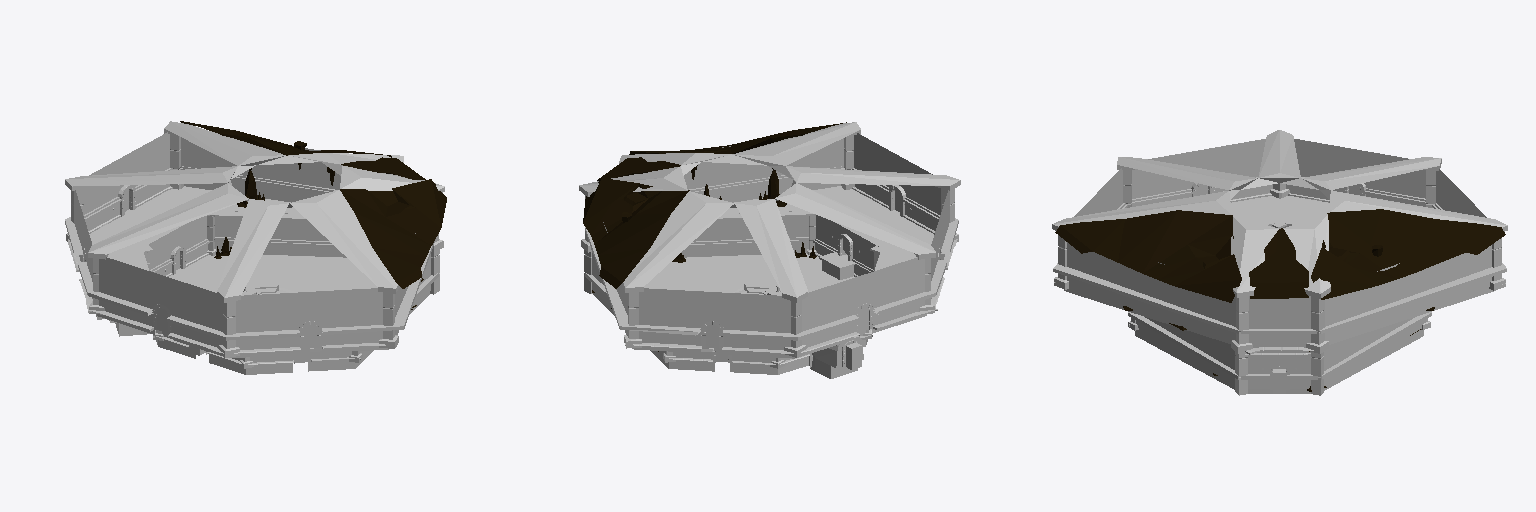
The model's file is BaseInicio.obj.
The picture shows the model from 3 angles: view 1: azimuth 30°, elevation 25°; view 2: azimuth 150°, elevation 25°; view 3: azimuth 270°, elevation 25°; orthographic projection.
Visible parts, largest first — view 1: base, techo, Circle.029, Cube.061, Circle.045, Cube.059, Cube.058, Circle.017; view 2: base, techo, Circle.029, Cube.059, Circle.045, Cube.061, Cube.058, Cube.002; view 3: base, techo, Cube.061, Cube.059, Circle.029, Circle.045, Cube.058.
Part boxes in pixels (x1,y1,x2,y2): base: (74,132,431,362); techo: (65,121,444,357); Circle.029: (65,166,435,357); Cube.061: (340,179,446,309); Circle.045: (150,237,438,374); Cube.059: (180,121,391,207); Cube.058: (341,157,425,179); Circle.017: (207,211,307,255); base: (591,133,949,378); techo: (579,122,960,357); Circle.029: (585,166,958,358); Cube.059: (583,178,689,308); Circle.045: (585,237,873,374); Cube.061: (629,122,846,206); Cube.058: (597,157,680,180); Cube.002: (717,211,816,254); base: (1066,139,1492,388); techo: (1052,130,1507,353); Cube.061: (1055,210,1241,310); Cube.059: (1311,209,1505,310); Circle.029: (1053,177,1506,344); Circle.045: (1128,312,1431,393); Cube.058: (1249,228,1308,298).
Bounding box in the file's own units: 83.95 × 33.18 × 98.14.